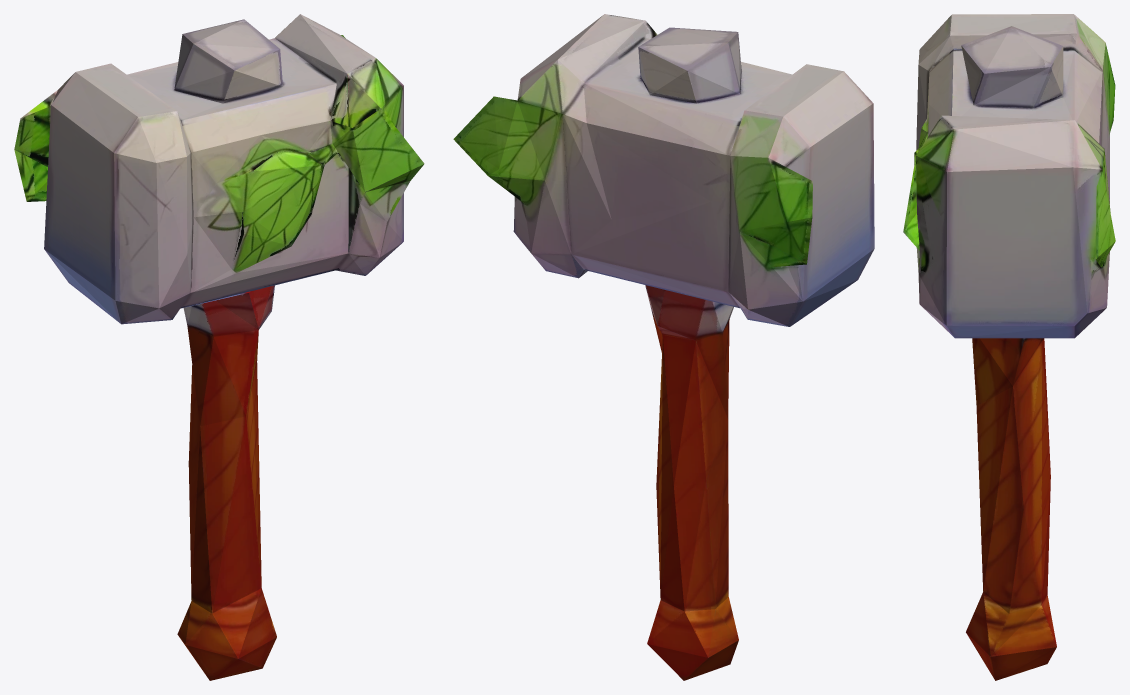
Rendered from stone_war_hammer.glb.
3 renders of one model, left to right at view 1: azimuth 30°, elevation 25°; view 2: azimuth 150°, elevation 25°; view 3: azimuth 270°, elevation 25°, orthographic.
Visible parts, largest first — view 1: TexturedMesh_.obj; view 2: TexturedMesh_.obj; view 3: TexturedMesh_.obj.
Boxes of the visible parts, <box> form: TexturedMesh_.obj: <box>14,14,424,680</box>; TexturedMesh_.obj: <box>453,14,874,680</box>; TexturedMesh_.obj: <box>903,14,1115,680</box>.
Size of the model in its own units: 1.2 by 1.99 by 0.6136.
1 material, 1 textured.
